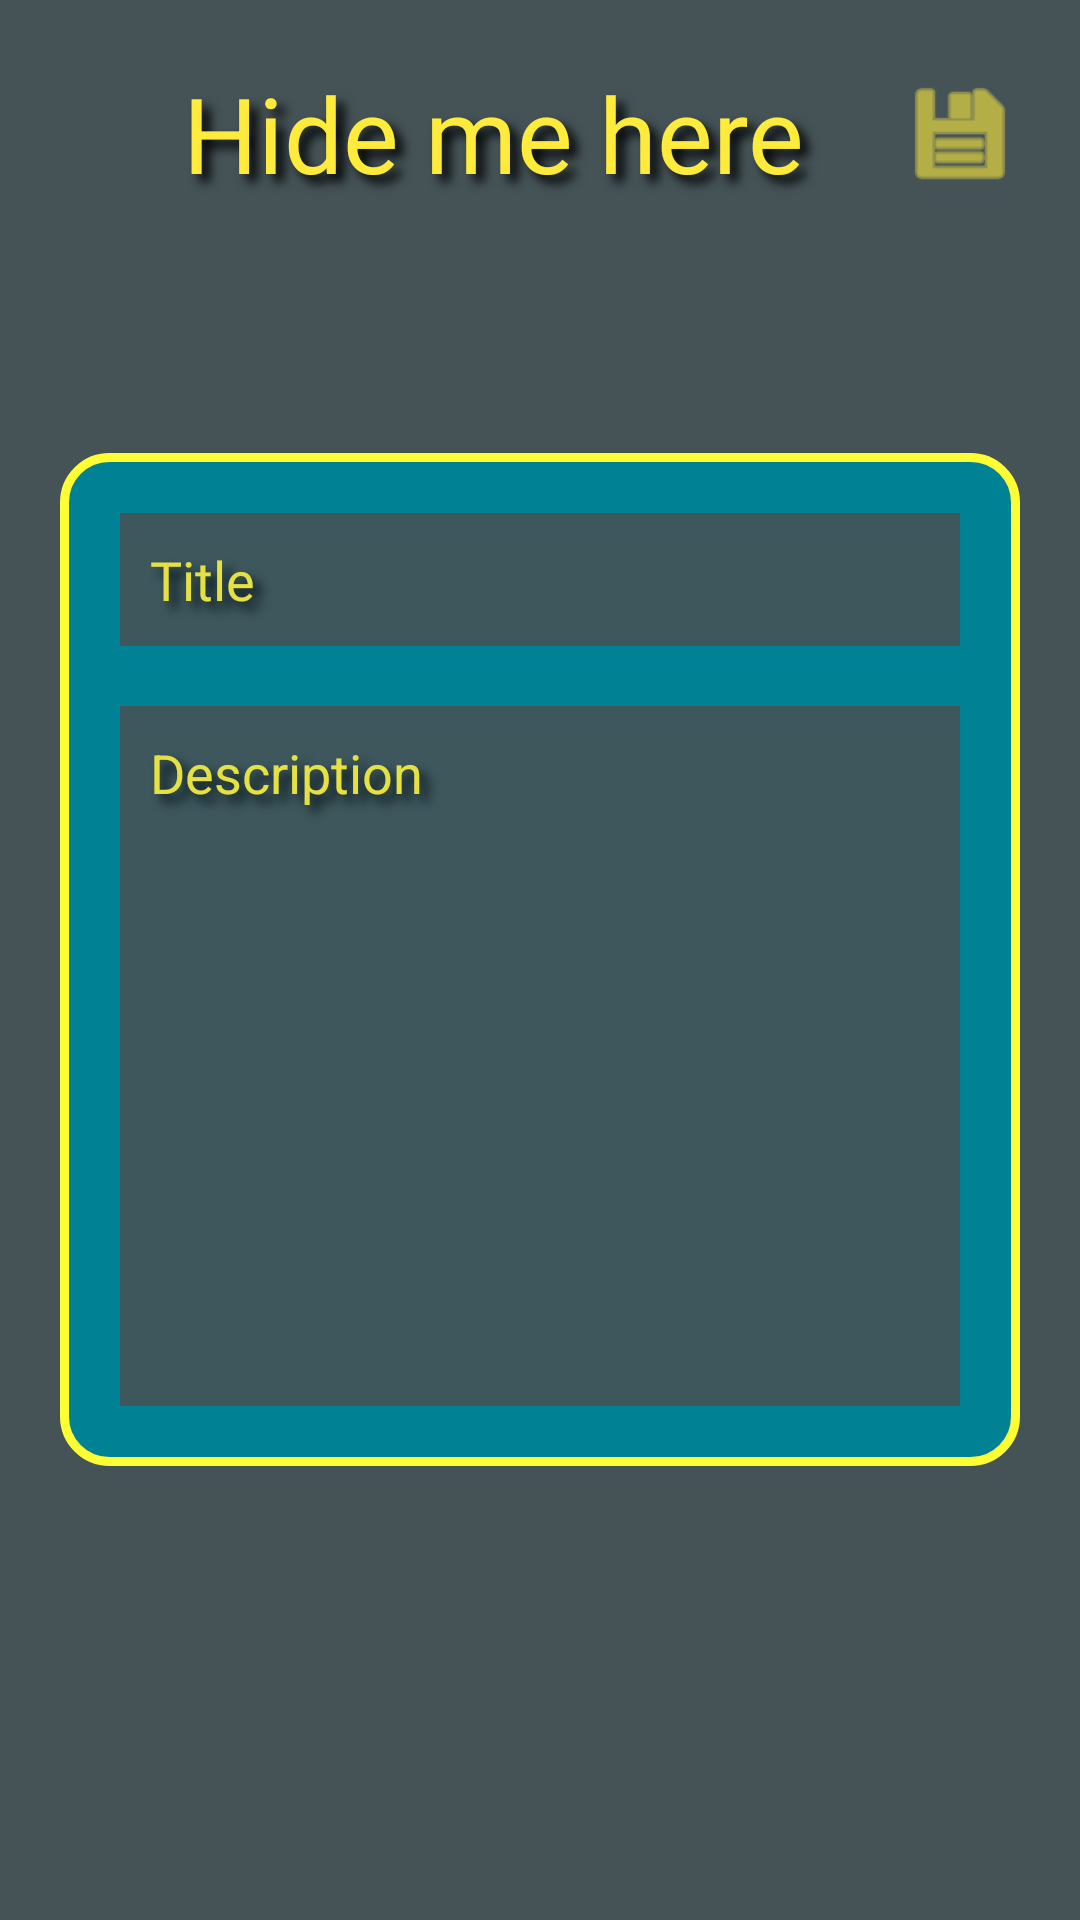

Named icons in this screenshot (1080x1920) and their centers, (x,y):
save: (960,133)
